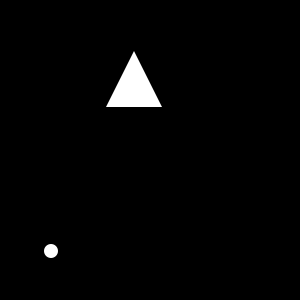rectangle: (44, 244, 58, 258)
triangle: (106, 51, 162, 107)
